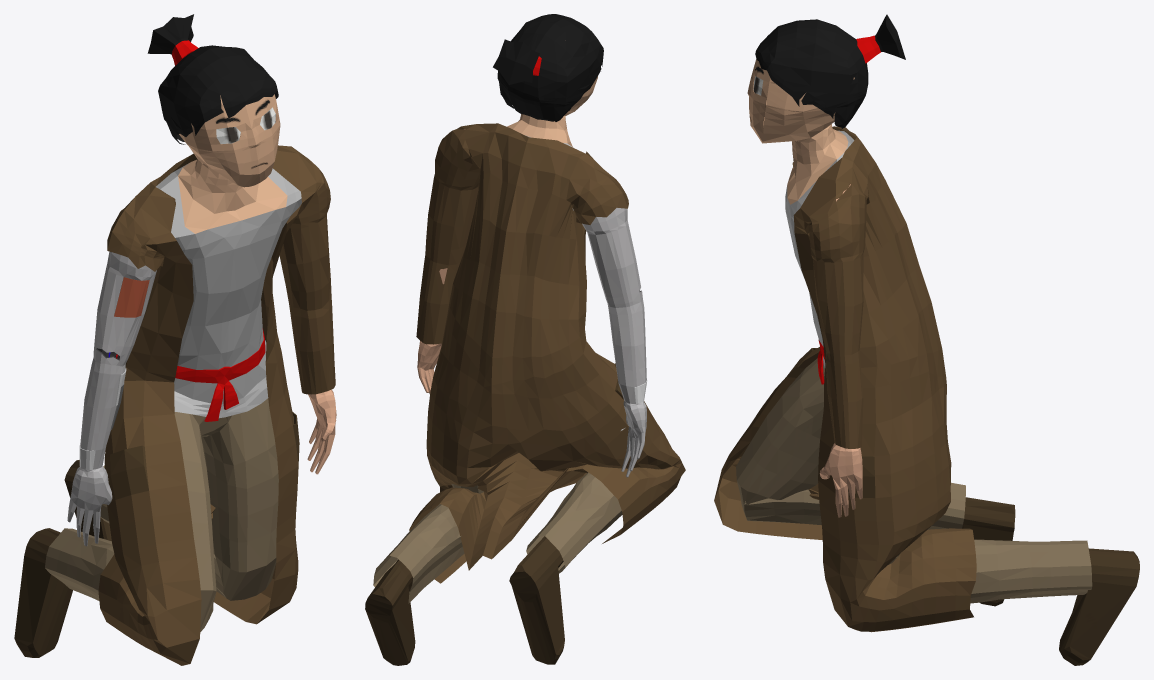
The model's file is One_Die_000012.obj.
3 views of the same model, side by side, from view 1: azimuth 30°, elevation 25°; view 2: azimuth 150°, elevation 25°; view 3: azimuth 270°, elevation 25° (orthographic). The views are drawn at different scales.
Visible parts, largest first — view 1: Hair_Cube.004; view 2: Hair_Cube.004; view 3: Hair_Cube.004.
Part boxes in pixels (left/top/right/bottom): Hair_Cube.004: left=14, top=14, right=336, bottom=665; Hair_Cube.004: left=365, top=14, right=685, bottom=665; Hair_Cube.004: left=714, top=14, right=1139, bottom=665.
Bounding box in the file's own units: 1.27 × 3.03 × 1.86.
